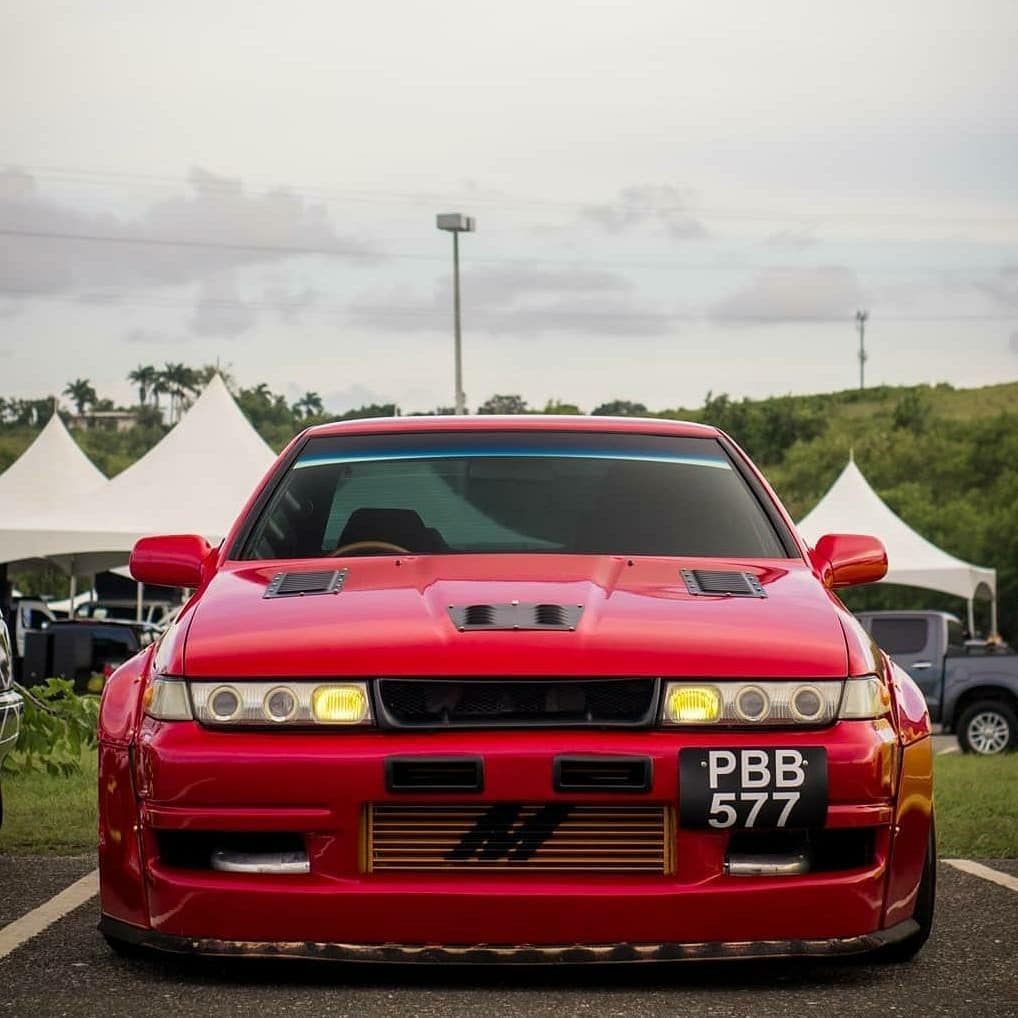License-Plate: (677, 746, 825, 830)
